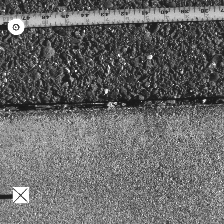circle: (7, 18, 25, 35)
crack: (1, 94, 223, 113)
square: (12, 187, 29, 203)
